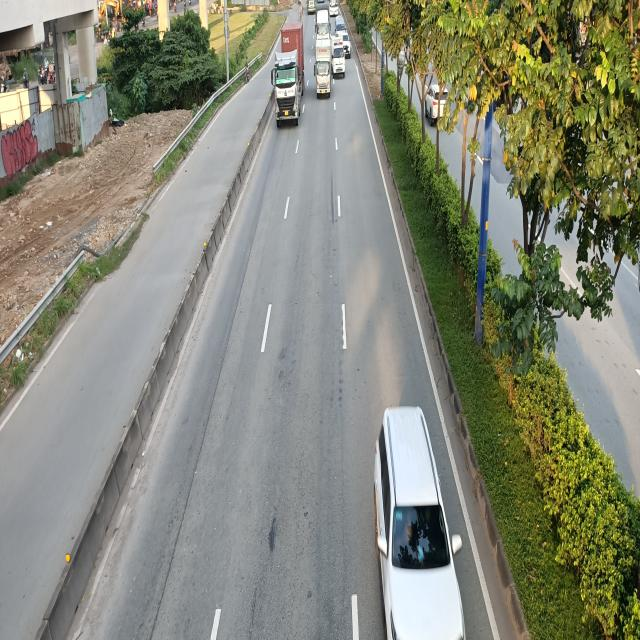car: (374, 407, 473, 640)
container: (272, 20, 304, 126)
truck: (314, 38, 332, 99)
